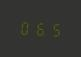five: (47, 20, 60, 38)
six: (33, 19, 46, 37)
zero: (18, 18, 31, 36)
